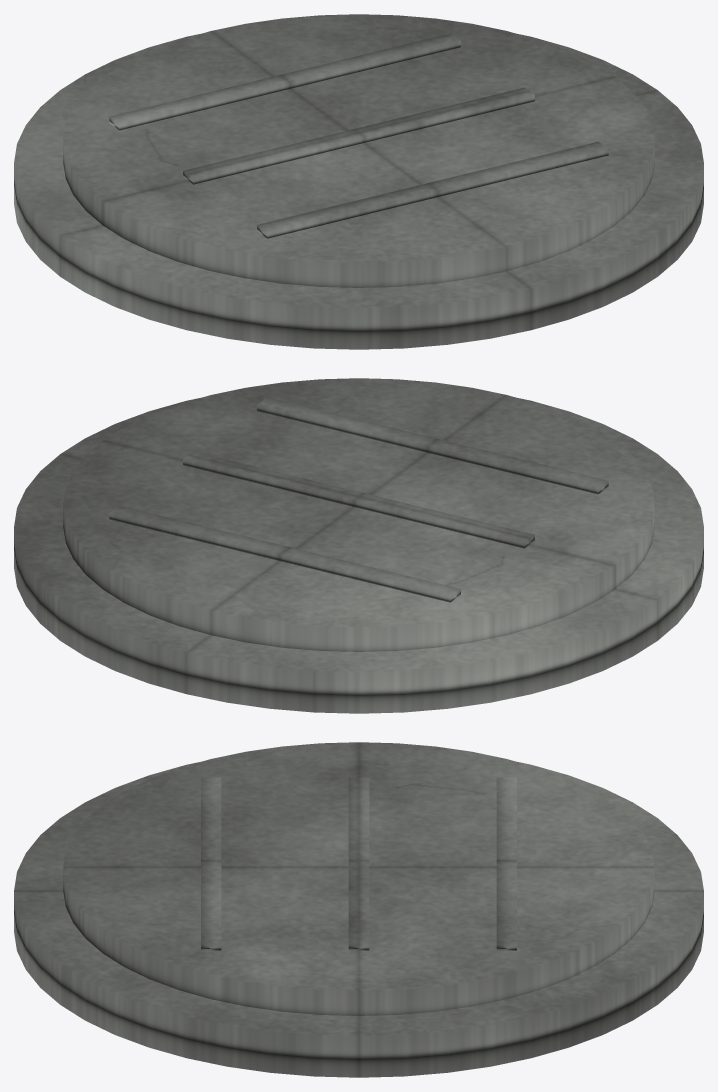
Rendered from RES_Manhole_0p84m.obj.
3 renders of one model, top to bottom at view 1: azimuth 30°, elevation 25°; view 2: azimuth 150°, elevation 25°; view 3: azimuth 270°, elevation 25°, orthographic.
Visible parts, largest first — view 1: RES_Manhole_0p84m; view 2: RES_Manhole_0p84m; view 3: RES_Manhole_0p84m.
Boxes of the visible parts, box(x1,y1,x2,y2) form: RES_Manhole_0p84m: box(14, 14, 703, 349); RES_Manhole_0p84m: box(14, 378, 703, 713); RES_Manhole_0p84m: box(14, 742, 703, 1077).
Bounding box in the file's own units: 0.84 × 0.0955 × 0.84.
Materials: 1 (1 with a texture image).
